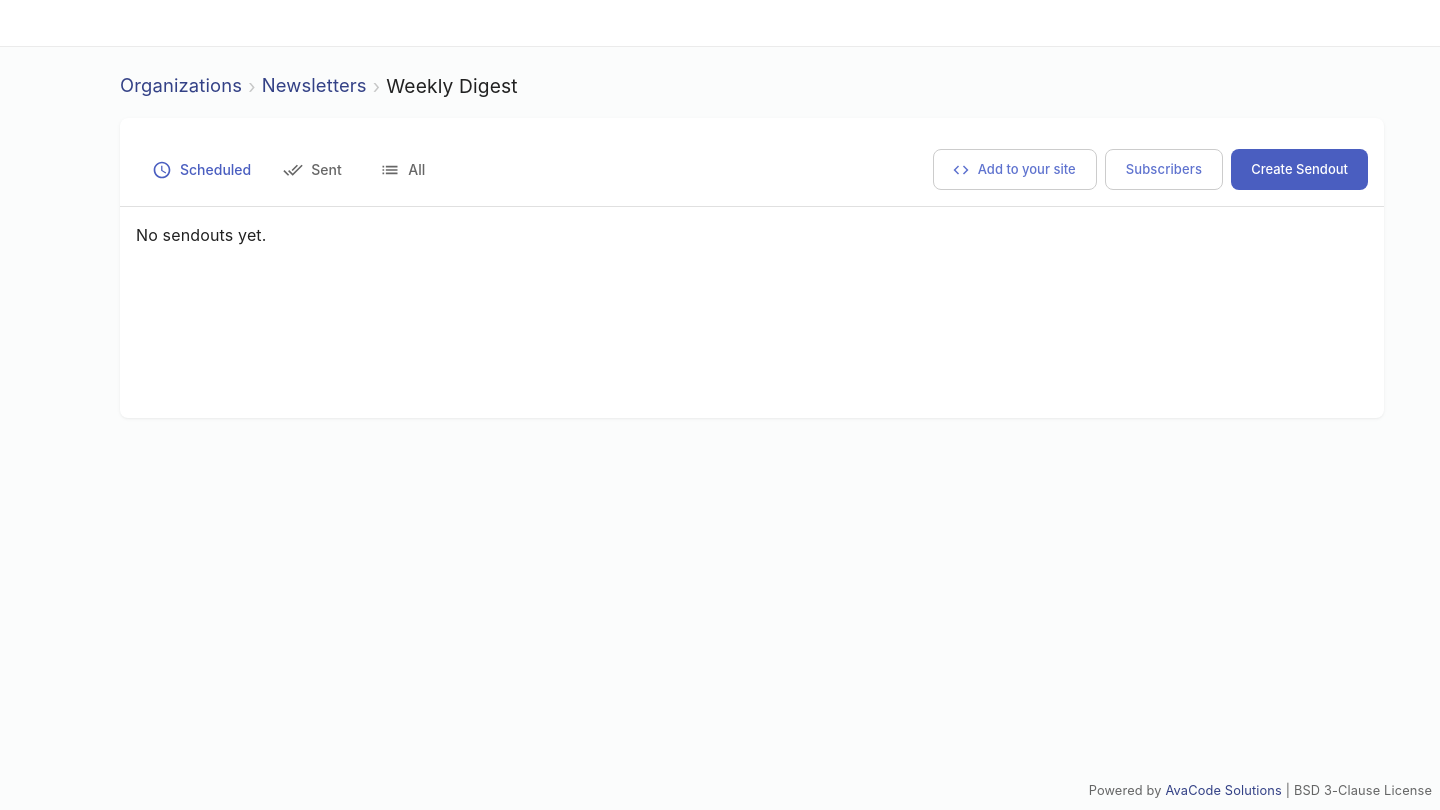
Test case: Newsletter › "Add to your site" embed button › fetches and displays the embed snippet on click
Click the button "Add to your site": (1015, 170) [933,149,1097,190]
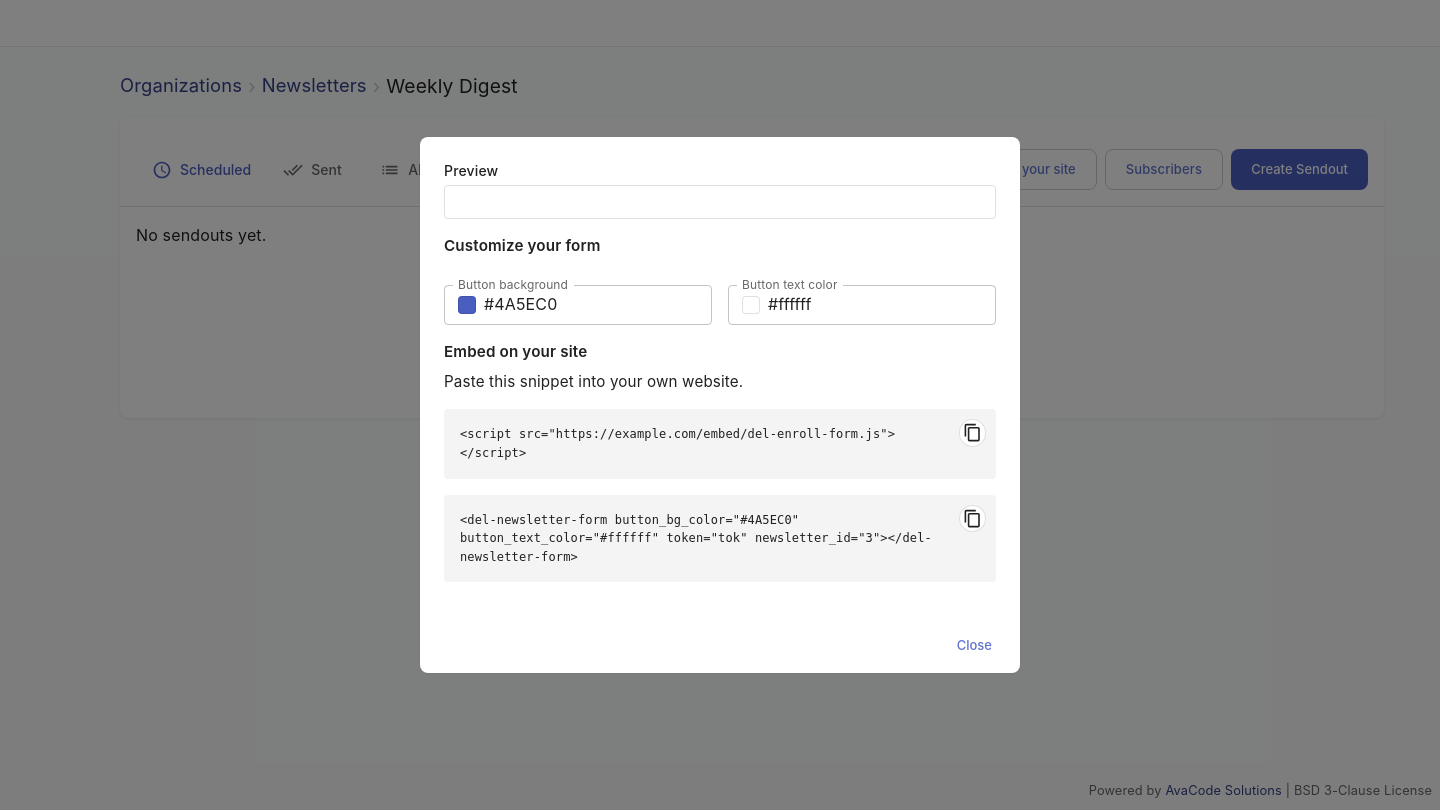
Expected: the text "<script src=\"https://example.com/embed/del-enroll-form.js\"></script>" is shown, [444,409,996,479]
Expected: the text "<del-newsletter-form button_bg_color=\"#4A5EC0\" button_text_color=\"#ffffff\" token=\"tok\" newsletter_id=\"3\"></del-newslette" is shown, [460,512,932,564]
